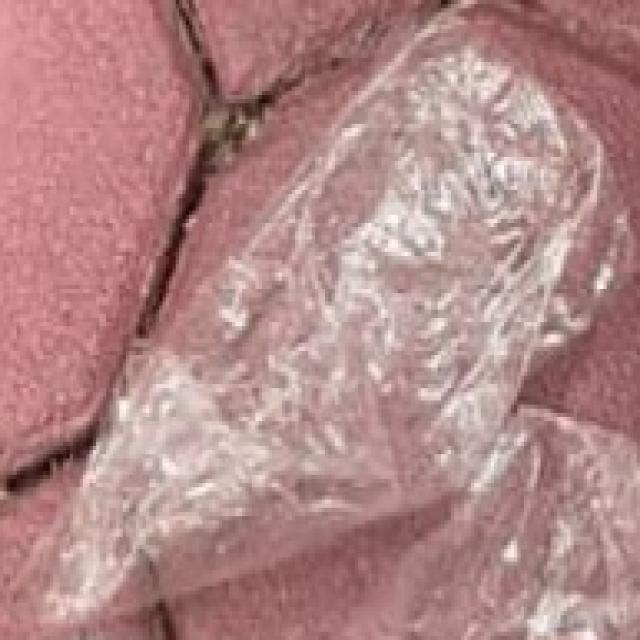plastic bag: (53, 0, 640, 590)
